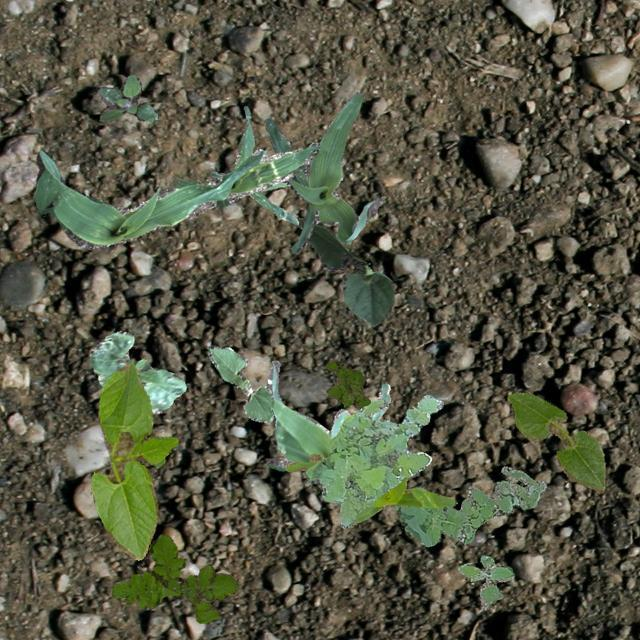crop: (33, 140, 320, 248), (264, 90, 382, 252), (90, 360, 176, 560), (266, 360, 390, 470), (285, 452, 453, 524), (296, 217, 394, 326), (210, 104, 298, 223), (506, 392, 604, 492), (90, 329, 186, 414), (206, 346, 272, 422)
weed: (304, 393, 442, 528), (394, 466, 546, 546), (110, 534, 238, 622), (458, 554, 514, 610), (96, 74, 156, 122), (326, 362, 370, 408)
